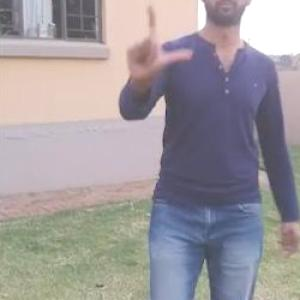land_hand: (122, 0, 193, 82)
